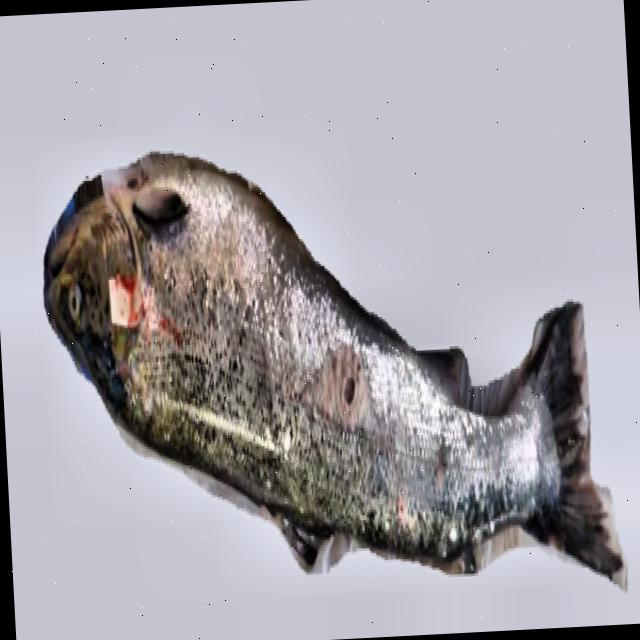mild_red: (136, 172, 558, 557)
